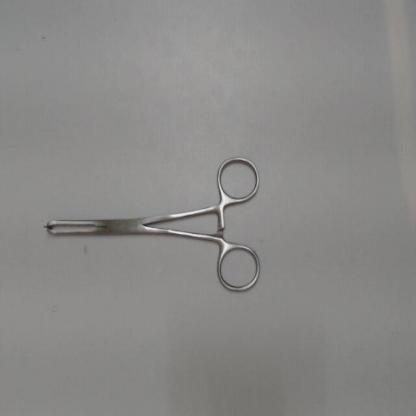Allis Tissue Forceps: (38, 149, 266, 303)
